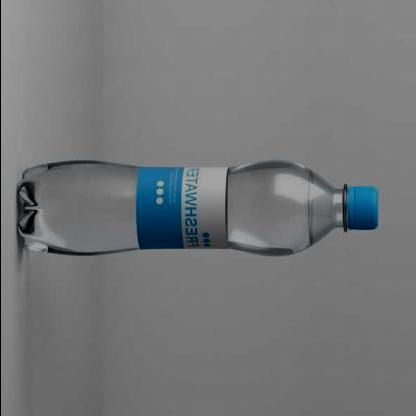bottle: (13, 156, 388, 255)
